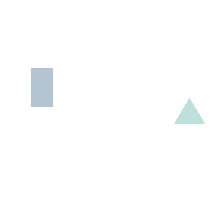rectangle: (31, 68, 52, 106)
triangle: (174, 98, 204, 123)
